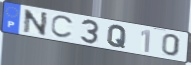0: (161, 33, 182, 58)
1: (140, 29, 153, 54)
3: (79, 19, 101, 45)
C: (50, 15, 76, 40)
N: (23, 8, 50, 37)
Q: (106, 24, 128, 50)
